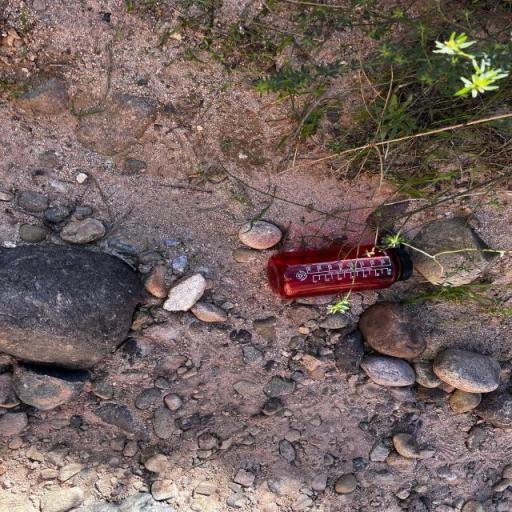bottle: (267, 233, 413, 300)
